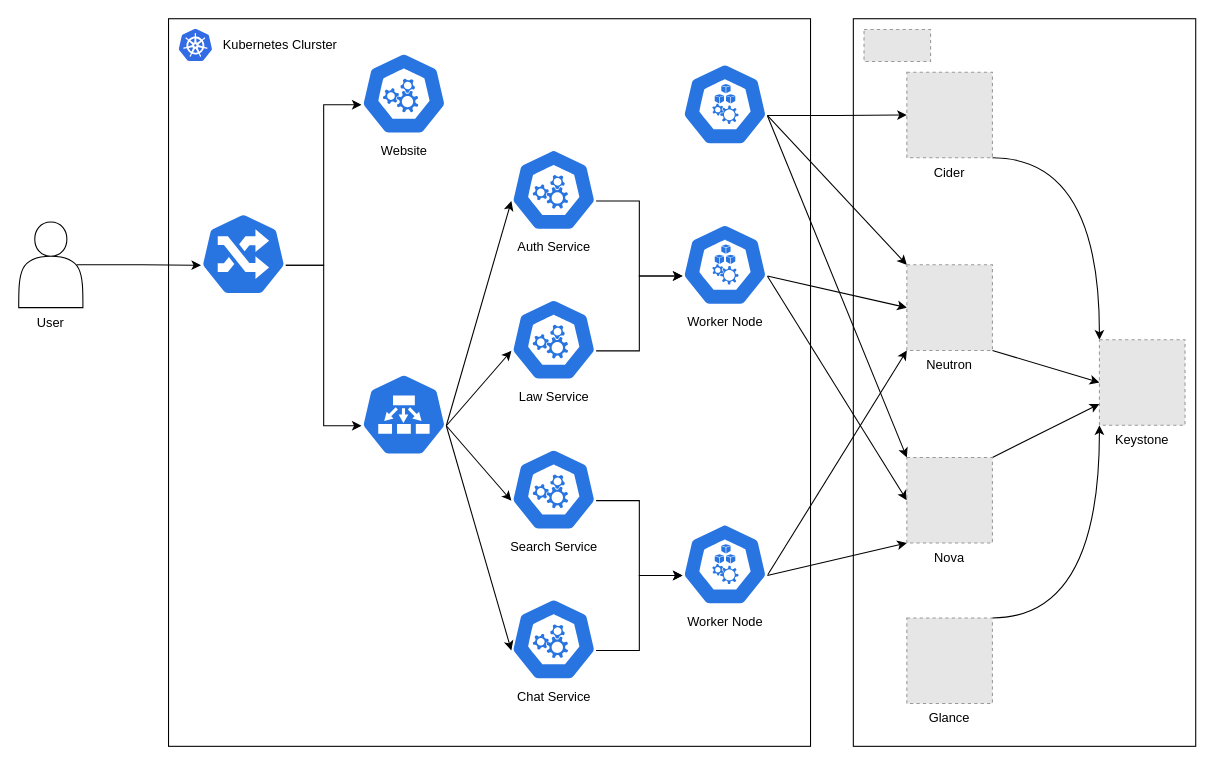
The diagram is 1214 pixels wide and 765 high, and some of its shapes have lost their labels. Grey dashed boxes stand in for pictures. The box of each missing label's shape, as (x1, y1, x2, y2) in pixels:
Gateway: (360, 371, 447, 457)
Ingress Controller: (200, 210, 286, 297)
Master Node: (681, 60, 768, 147)
